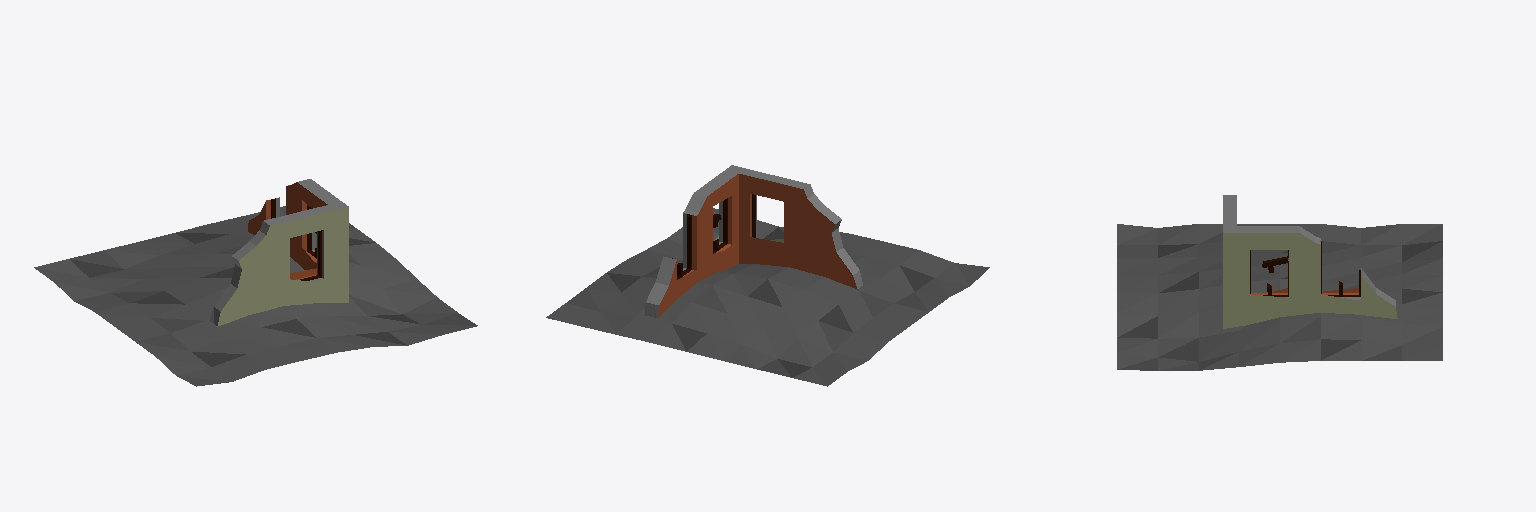
File: lowpolyhousedestroyed.obj
3 renders of one model, left to right at view 1: azimuth 30°, elevation 25°; view 2: azimuth 150°, elevation 25°; view 3: azimuth 270°, elevation 25°, orthographic.
Parts seen in each view (by area): view 1: Plane, Cube_Cube.001; view 2: Plane, Cube_Cube.001; view 3: Plane, Cube_Cube.001.
Boxes of the visible parts, x1=… form: Plane: x1=34, y1=206, x2=477, y2=386; Cube_Cube.001: x1=209, y1=179, x2=348, y2=326; Plane: x1=546, y1=208, x2=989, y2=386; Cube_Cube.001: x1=645, y1=165, x2=862, y2=317; Plane: x1=1117, y1=224, x2=1442, y2=370; Cube_Cube.001: x1=1223, y1=195, x2=1397, y2=328.
Size of the model in its own units: 9.73 by 3.59 by 9.73.